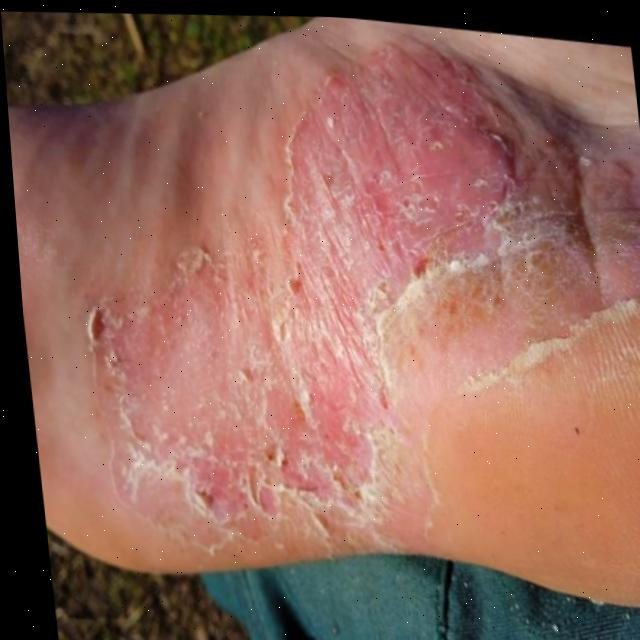Eczema: (21, 40, 589, 550)
